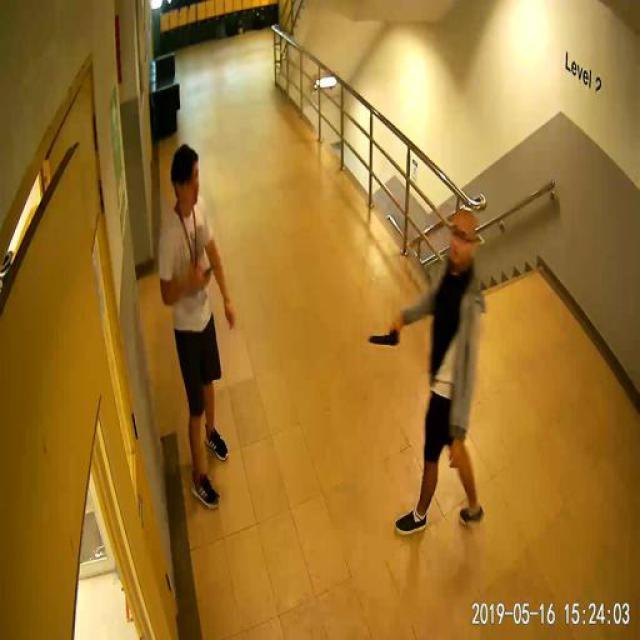weapon: (368, 328, 402, 347)
